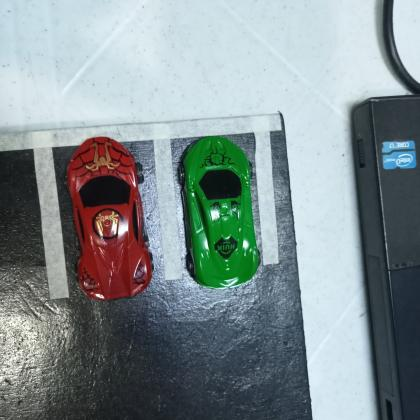Car: (64, 136, 154, 302), (177, 134, 261, 289)
